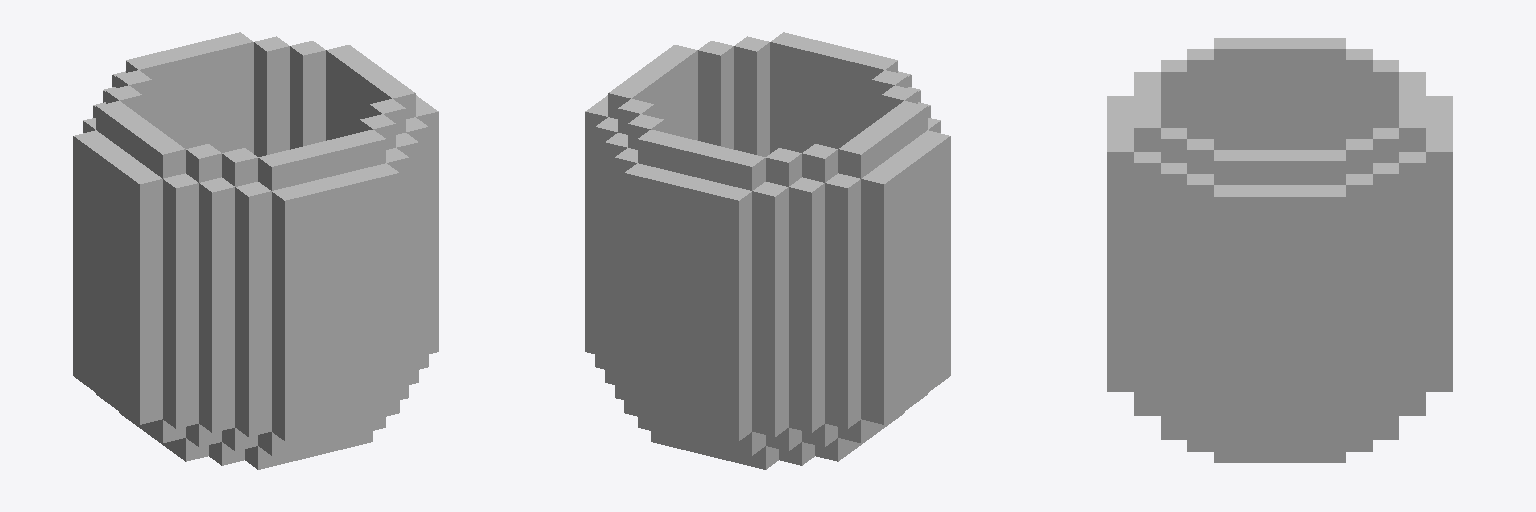
The model's file is barrel.obj.
The picture shows the model from 3 angles: view 1: azimuth 30°, elevation 25°; view 2: azimuth 150°, elevation 25°; view 3: azimuth 270°, elevation 25°; orthographic projection.
Visible parts, largest first — view 1: object 1; view 2: object 1; view 3: object 1.
Boxes of the visible parts, box(x1,y1,x2,y2) form: object 1: box(73, 32, 438, 469); object 1: box(585, 32, 950, 469); object 1: box(1107, 38, 1452, 462).
Size of the model in its own units: 1.3 by 1.3 by 1.3.